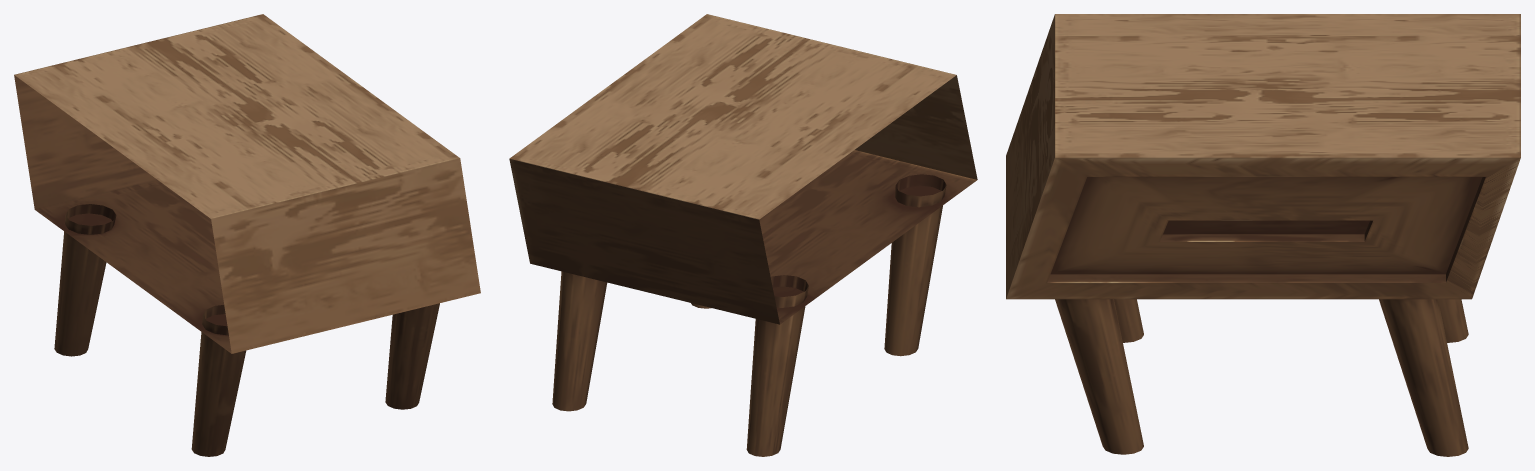
The model's file is PROP_016_BedsideTable.fbx.
3 views of the same model, side by side, from view 1: azimuth 30°, elevation 25°; view 2: azimuth 150°, elevation 25°; view 3: azimuth 270°, elevation 25° (orthographic). The views are drawn at different scales.
Parts seen in each view (by area): view 1: Mesita_Noche; view 2: Mesita_Noche; view 3: Mesita_Noche.
Boxes of the visible parts, bbox=[...] form: Mesita_Noche: bbox=[14, 14, 480, 456]; Mesita_Noche: bbox=[509, 14, 977, 456]; Mesita_Noche: bbox=[1006, 14, 1520, 456].
Bounding box in the file's own units: 1 × 0.9977 × 1.51.
Materials: 1 (1 with a texture image).
